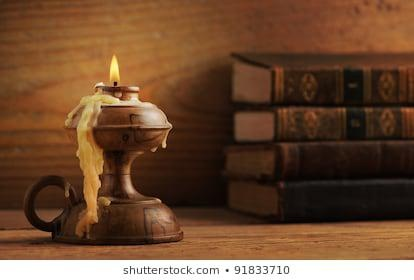fire: (102, 51, 124, 87)
